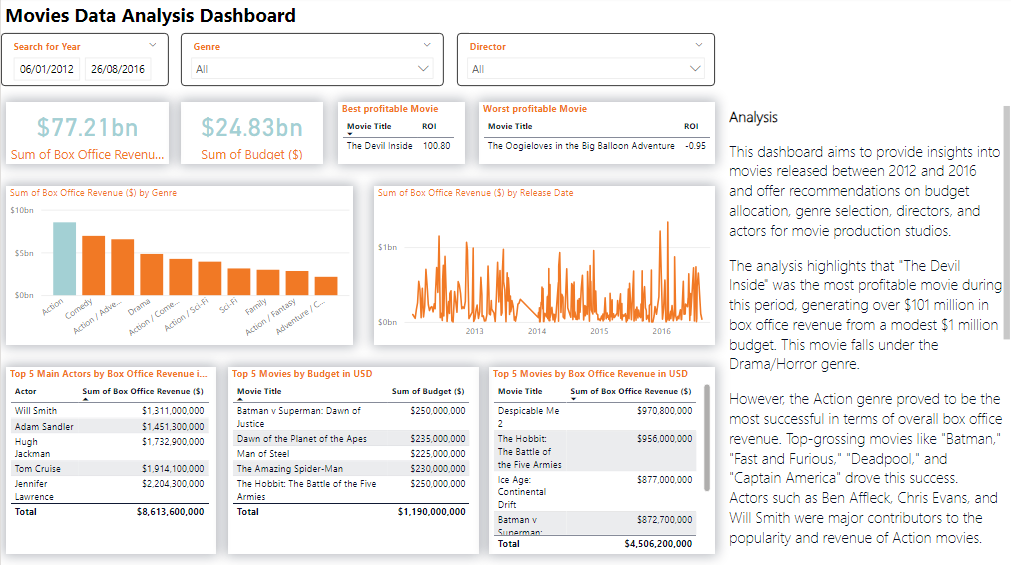

Layout of this report page (visuals, bound fields, positions):
{"tool":"powerbi","page":{"name":"Dashboard","canvas":[1280,720],"ordinal":0},"visuals":[{"type":"slicer","fields":{"Values":["Movie Data.Release Date.Variation.Date Hierarchy.Year"]},"box":[15.2,70.8,342.4,131.4],"z":0},{"type":"slicer","fields":{"Values":["Movie Data.Combined Genre"]},"box":[519.8,70.9,342,150.8],"z":1000},{"type":"slicer","fields":{"Values":["Movie Data.Director"]},"box":[926.2,72,342.4,149.1],"z":2000},{"type":"columnChart","fields":{"Y":["Movie Data.Box Office Revenue ($)"],"Category":["Movie Data.Combined Genre"]},"box":[49.3,274.2,470,193.3],"z":3000},{"type":"lineChart","fields":{"Y":["Movie Data.Box Office Revenue ($)"],"Category":["Movie Data.Release Date.Variation.Date Hierarchy.Month"]},"box":[564.8,274.2,417,214.8],"z":4000},{"type":"tableEx","fields":{"Values":["Movie Data.Movie Title","Movie Data.ROI"]},"box":[999,304.9,265.5,66.4],"z":5000},{"type":"tableEx","fields":{"Values":["Movie Data.Movie Title","Movie Data.ROI"]},"box":[999,402.8,270,86.6],"z":6000},{"type":"tableEx","fields":{"Values":["Movie Data.Actor","Movie Data.Box Office Revenue ($)"]},"box":[49.3,571.1,381.6,147.8],"z":7000},{"type":"tableEx","fields":{"Values":["Movie Data.Movie Title","Movie Data.Budget ($)"]},"box":[462.5,571.1,374,147.8],"z":8000},{"type":"tableEx","fields":{"Values":["Movie Data.Movie Title","Movie Data.Box Office Revenue ($)"]},"box":[836.5,571.1,443.5,149.1],"z":9000},{"type":"textbox","box":[0,0,1280,45.5],"z":10000},{"type":"textbox","box":[999,274.5,281.2,30.4],"z":11000},{"type":"textbox","box":[999,371.2,281.2,31.5],"z":12000},{"type":"textbox","box":[837,531,443.2,30.4],"z":13000},{"type":"textbox","box":[462.4,531,361.1,30.4],"z":14000},{"type":"textbox","box":[49.5,531,412.9,30.4],"z":15000}]}

Visuals, with their boxes in screenshot pixels (x1, y1, x2, y2), scaled from the page's 1280x720 canvas onto the 1011x565 screenshot:
slicer - Movie Data.Release Date.Variation.Date Hierarchy.Year: bbox=(12, 56, 282, 159)
slicer - Movie Data.Combined Genre: bbox=(411, 56, 681, 174)
slicer - Movie Data.Director: bbox=(732, 56, 1002, 174)
columnChart - Movie Data.Box Office Revenue ($) x Movie Data.Combined Genre: bbox=(39, 215, 410, 367)
lineChart - Movie Data.Box Office Revenue ($) x Movie Data.Release Date.Variation.Date Hierarchy.Month: bbox=(446, 215, 775, 384)
tableEx - Movie Data.Movie Title x Movie Data.ROI: bbox=(789, 239, 999, 291)
tableEx - Movie Data.Movie Title x Movie Data.ROI: bbox=(789, 316, 1002, 384)
tableEx - Movie Data.Actor x Movie Data.Box Office Revenue ($): bbox=(39, 448, 340, 564)
tableEx - Movie Data.Movie Title x Movie Data.Budget ($): bbox=(365, 448, 661, 564)
tableEx - Movie Data.Movie Title x Movie Data.Box Office Revenue ($): bbox=(661, 448, 1010, 564)
textbox: bbox=(0, 0, 1010, 36)
textbox: bbox=(789, 215, 1010, 239)
textbox: bbox=(789, 291, 1010, 316)
textbox: bbox=(661, 417, 1010, 441)
textbox: bbox=(365, 417, 650, 441)
textbox: bbox=(39, 417, 365, 441)
